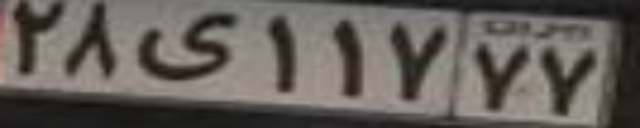1: (328, 17, 365, 96), (267, 13, 292, 93)
2: (9, 0, 59, 76)
7: (386, 18, 448, 101), (541, 40, 601, 117), (472, 39, 529, 111)
8: (66, 1, 116, 79)
mim: (137, 10, 236, 81)
